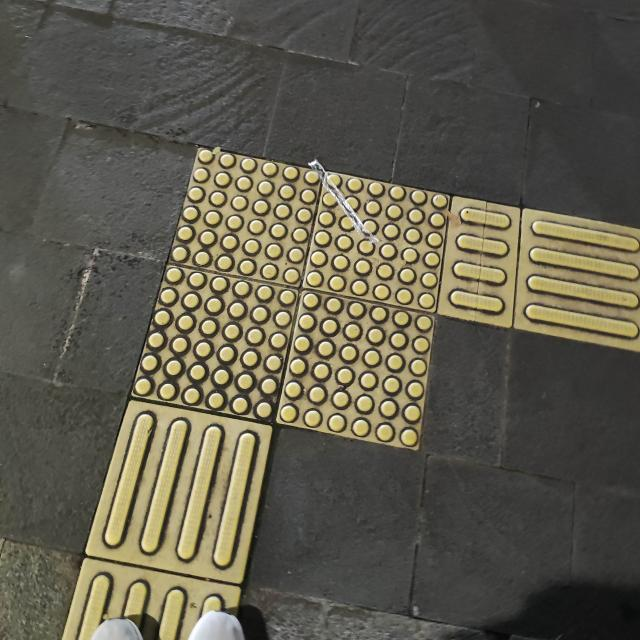kanan: (91, 118, 640, 514)
